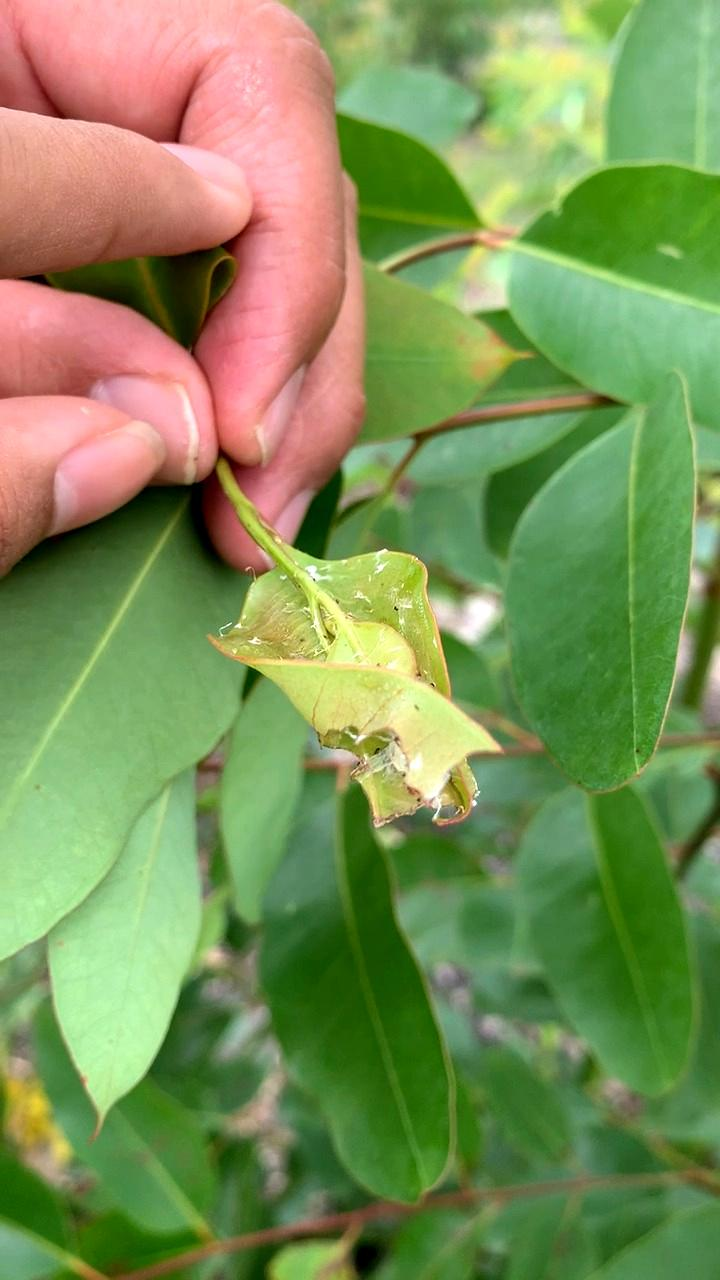Leaf Roller - Leaf: (223, 550, 499, 825)
